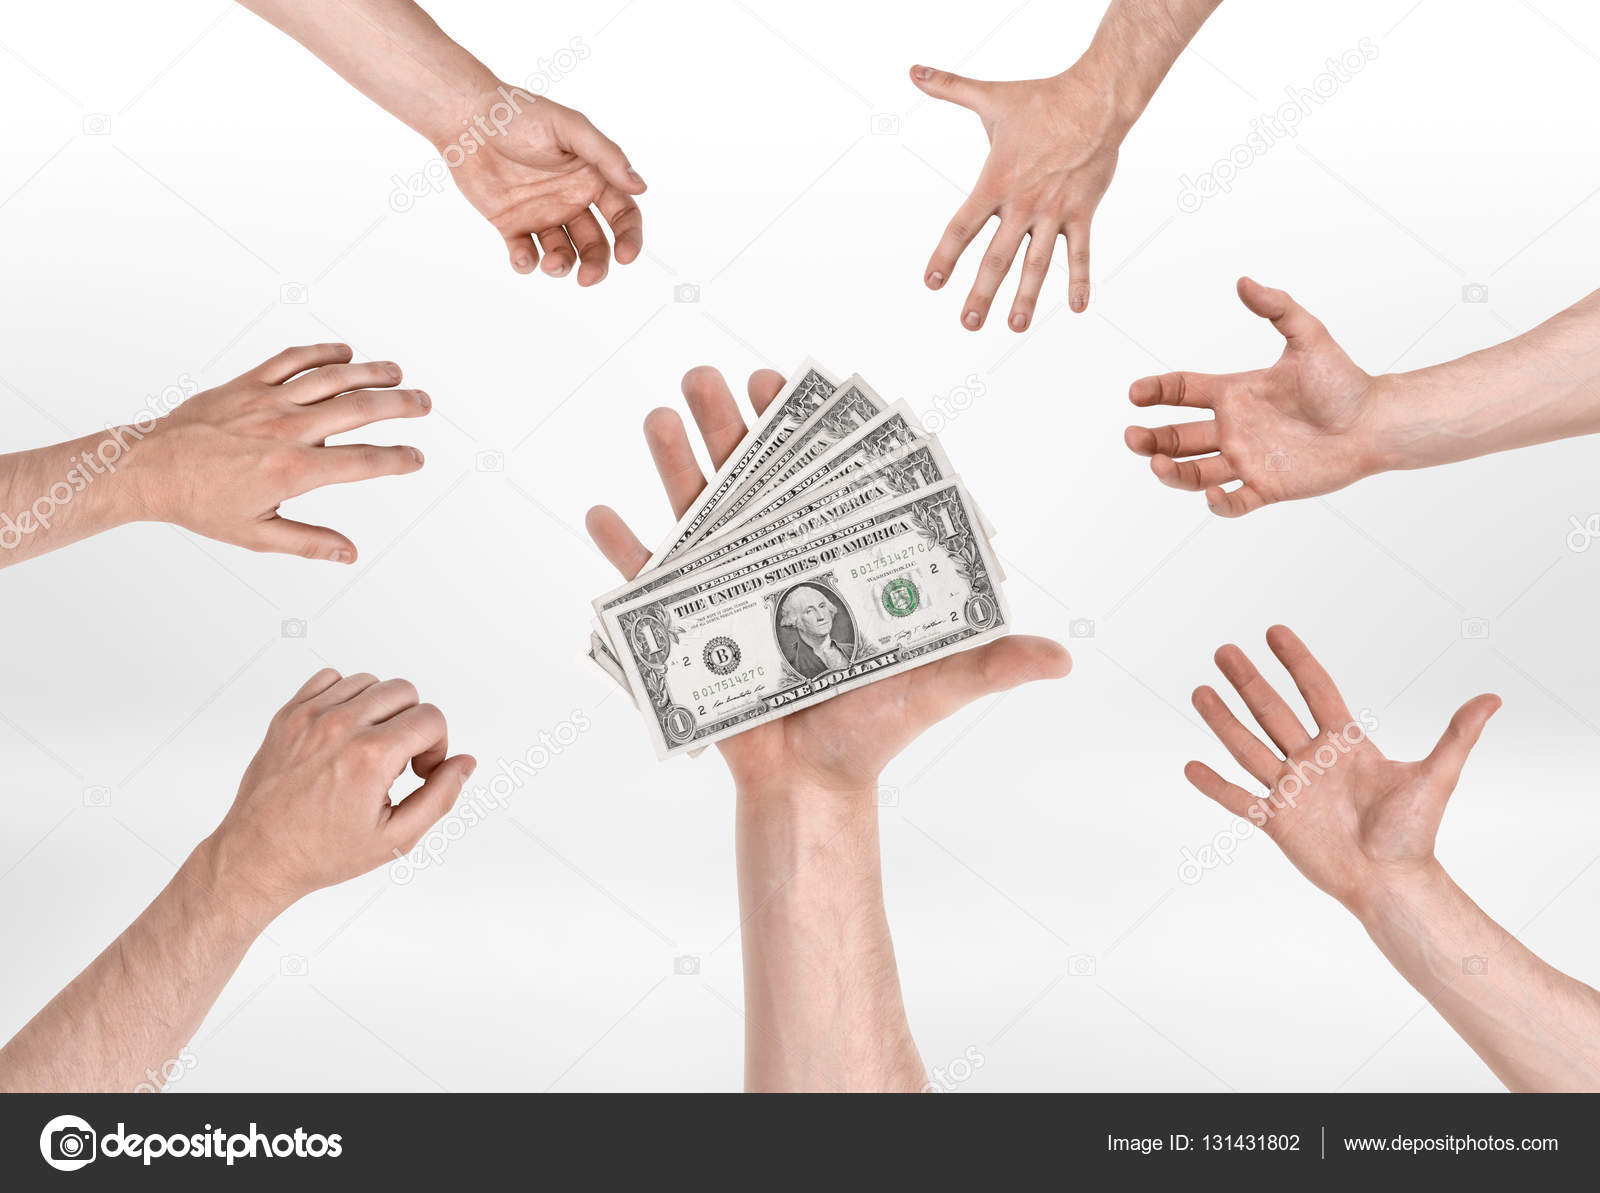billete: (586, 358, 1014, 756)
